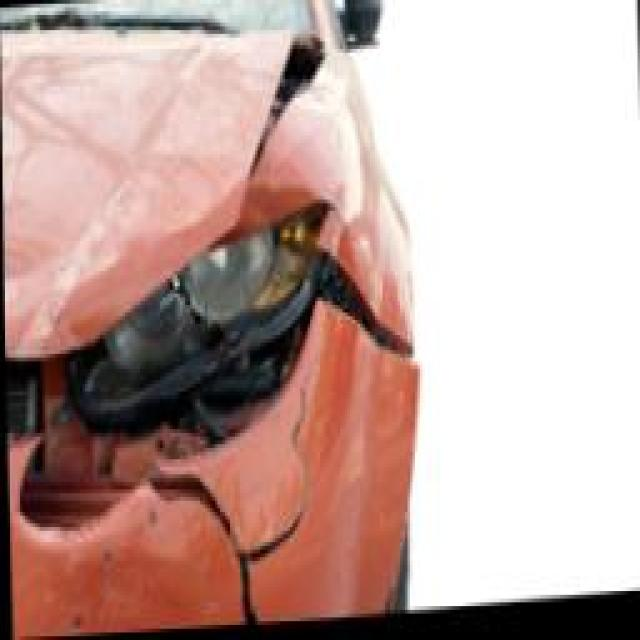Bonnet: (0, 56, 271, 338)
Bumper: (8, 324, 411, 638)
Light: (115, 241, 309, 405)
